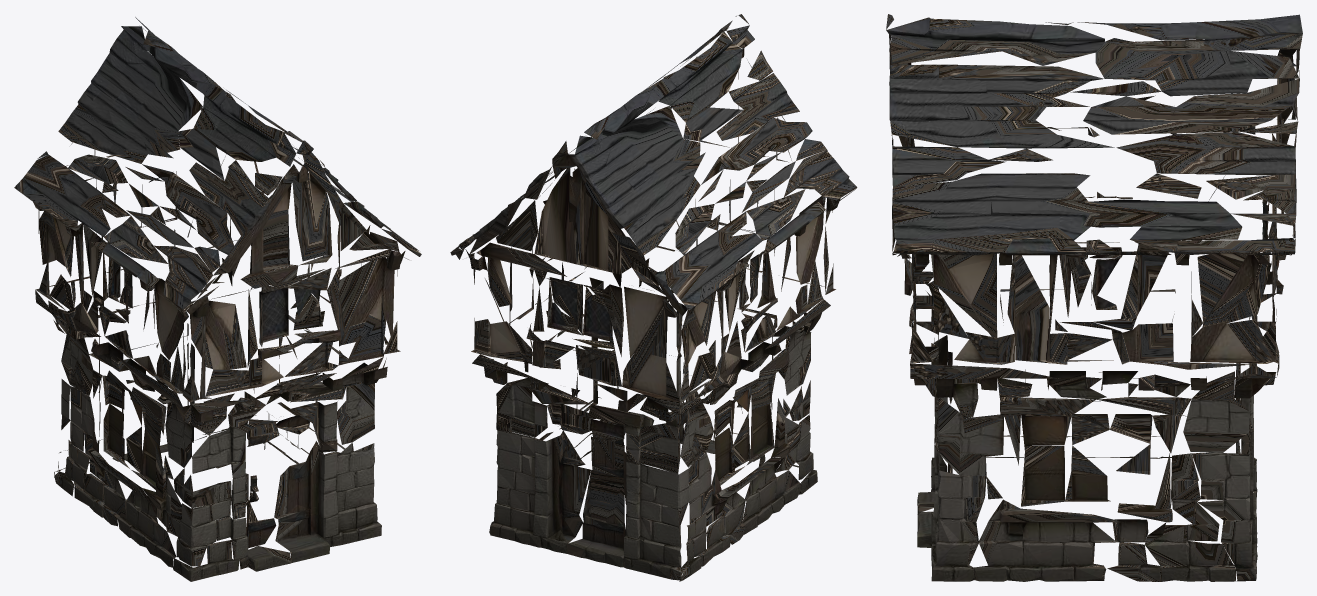
File: bld_house_npc_c_a_LOD1.glb
3 renders of one model, left to right at view 1: azimuth 30°, elevation 25°; view 2: azimuth 150°, elevation 25°; view 3: azimuth 270°, elevation 25°, orthographic. The views are drawn at different scales.
Parts seen in each view (by area): view 1: geometry_0; view 2: geometry_0; view 3: geometry_0.
Part boxes in pixels (x1=…): geometry_0: x1=14, y1=17, x2=421, y2=581; geometry_0: x1=450, y1=14, x2=857, y2=581; geometry_0: x1=886, y1=14, x2=1302, y2=581.
Bounding box in the file's own units: 3.51 × 6 × 4.43.
1 material, 1 textured.
